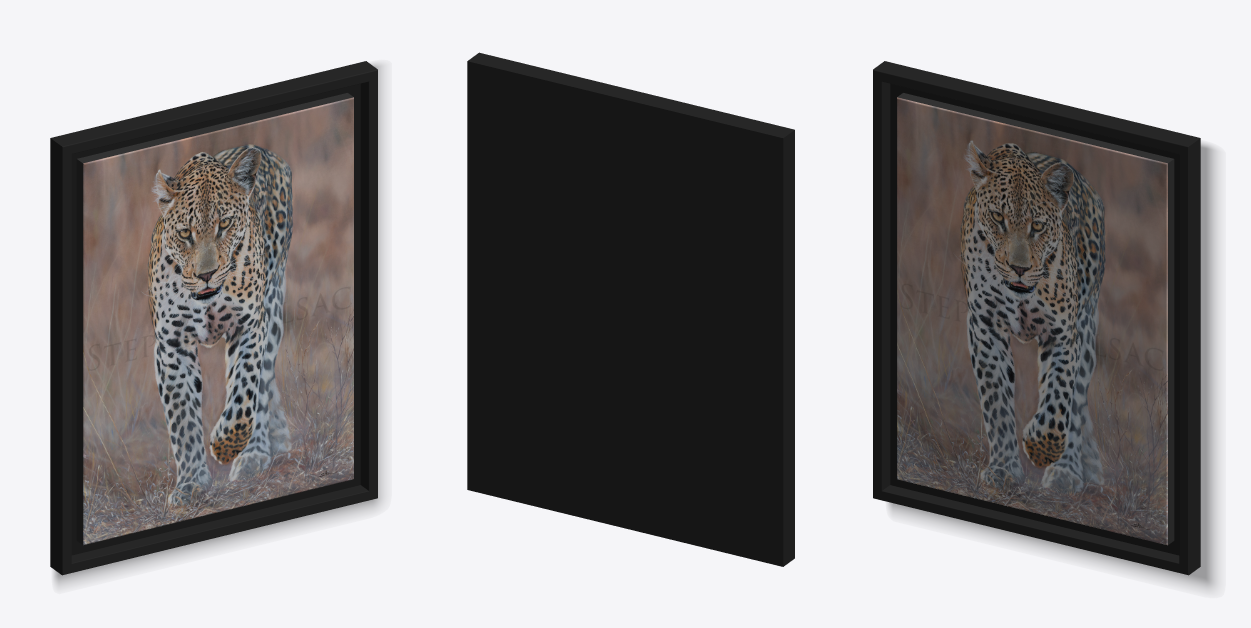
File: tableau-leopard-le-chasseur-classique-88f88432.glb
3 views of the same model, side by side, from view 1: azimuth 30°, elevation 25°; view 2: azimuth 150°, elevation 25°; view 3: azimuth 330°, elevation 25° (orthographic).
Visible parts, largest first — view 1: Painting; view 2: Painting; view 3: Painting.
Part boxes in pixels (x1,y1,x2,y2): Painting: (50, 61, 380, 584); Painting: (467, 52, 794, 566); Painting: (873, 61, 1214, 588).
Size of the model in its own units: 0.746 by 0.926 by 0.04.
5 materials, 3 textured.
